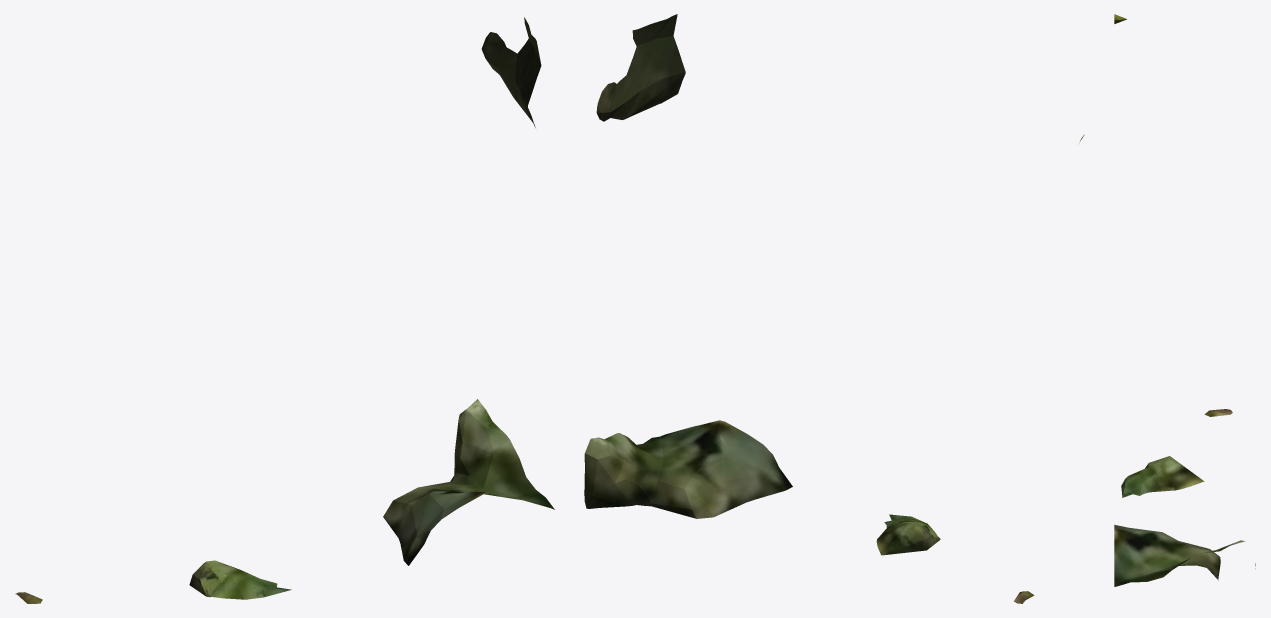
The picture shows the model from 3 angles, left to right: view 1: azimuth 30°, elevation 25°; view 2: azimuth 150°, elevation 25°; view 3: azimuth 270°, elevation 25°; orthographic projection. The views are drawn at different scales.
Size of the model in its own units: 0.8373 by 0.8373 by 0.2607.
1 material, 1 textured.
